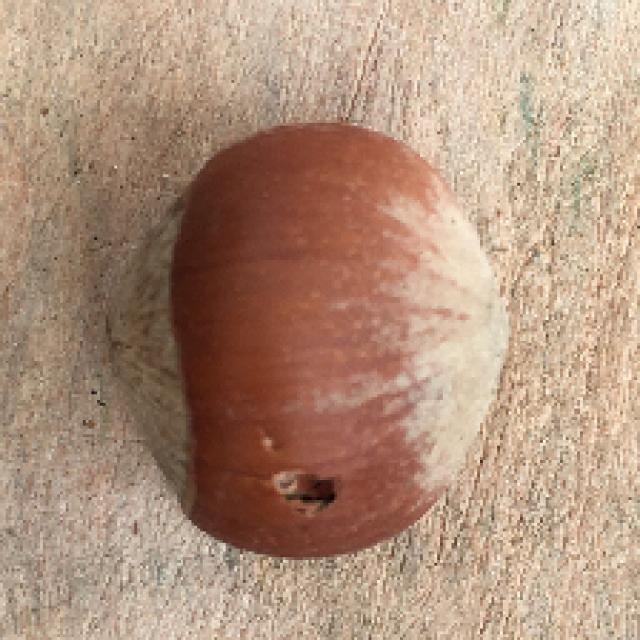damagedHazelnut: (105, 121, 514, 564)
